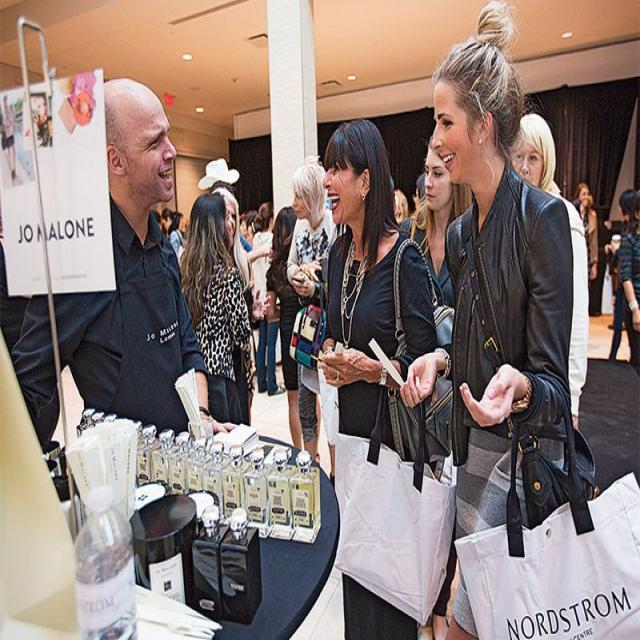body: (422, 0, 640, 639), (9, 76, 240, 449), (310, 107, 444, 639), (510, 112, 590, 432), (286, 154, 347, 492), (176, 188, 254, 424), (398, 132, 474, 346), (264, 203, 323, 467), (565, 175, 640, 375), (210, 186, 257, 432), (251, 200, 287, 398), (149, 203, 192, 269), (389, 168, 426, 228), (236, 198, 267, 253)
